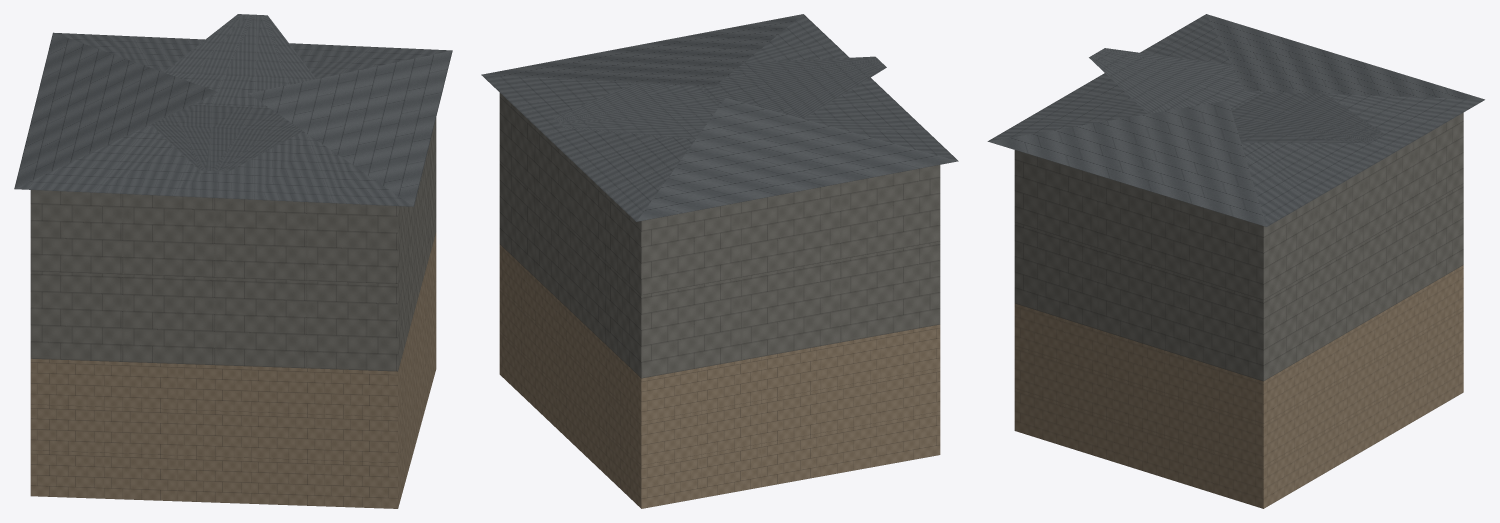
Rendered from bld_c11_17_444.gltf.
The picture shows the model from 3 angles, left to right: view 1: azimuth 30°, elevation 25°; view 2: azimuth 150°, elevation 25°; view 3: azimuth 270°, elevation 25°; orthographic projection. The views are drawn at different scales.
Visible parts, largest first — view 1: bld_c11_17_444; view 2: bld_c11_17_444; view 3: bld_c11_17_444.
Boxes of the visible parts, x1,y1,x2,y2 form: bld_c11_17_444: [14, 14, 452, 508]; bld_c11_17_444: [481, 14, 958, 508]; bld_c11_17_444: [987, 14, 1484, 508].
Size of the model in its own units: 18.29 by 12.6 by 18.07.
Materials: 3 (3 with a texture image).
